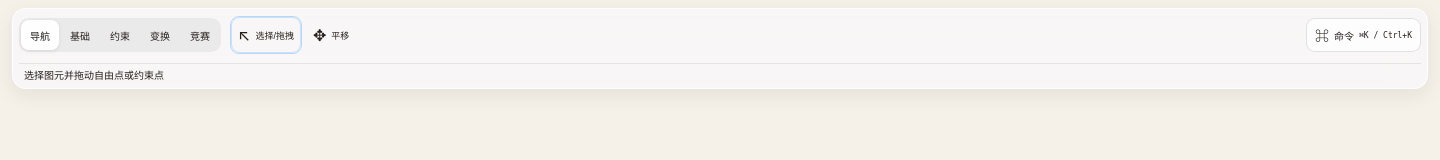
TikzToolPalette selection transform entry › keeps the explicit entry disabled until the user has a selection
Click the button "变换" at (160, 35), box left=141, top=20, right=179, bottom=50
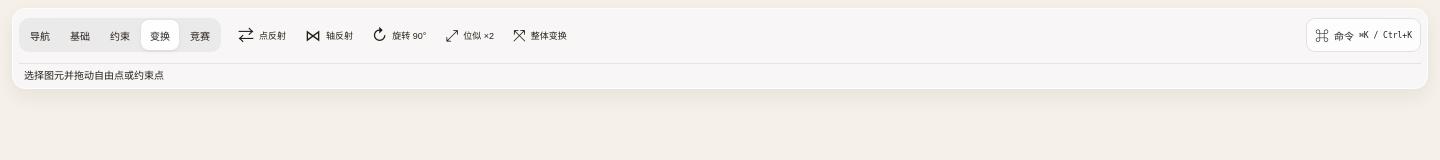
Now the button "⤧ 整体变换" is disabled, box left=505, top=16, right=575, bottom=54
